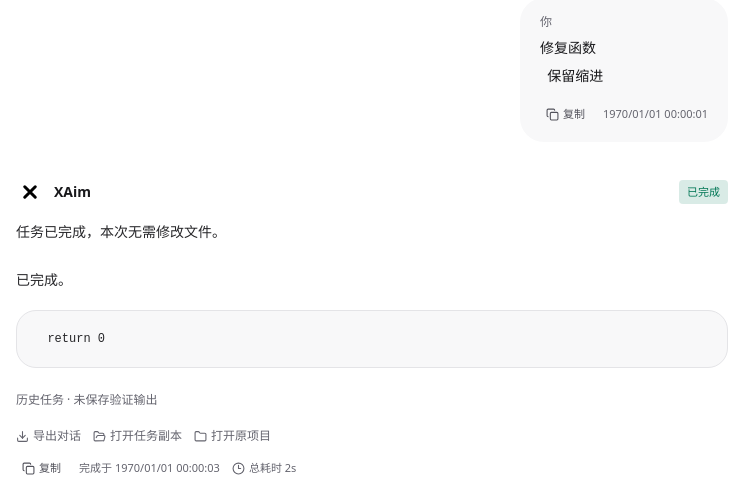
Test: copies the original input and saved output as plain text, preserving whitespace
Click the button with aria-label "复制输入".
click(566, 114)  # box [540,102,591,126]
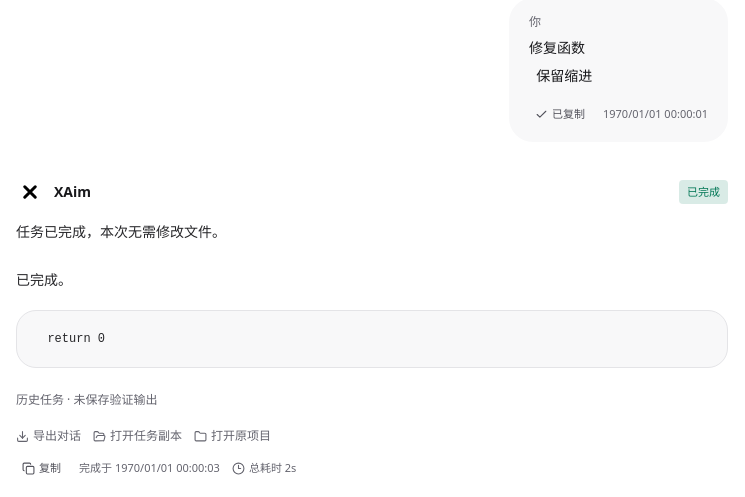
Check: the text "已复制" is shown, box [552,104,585,124]
Click the button with aria-label "复制输出".
click(42, 468)  # box [16,456,67,480]
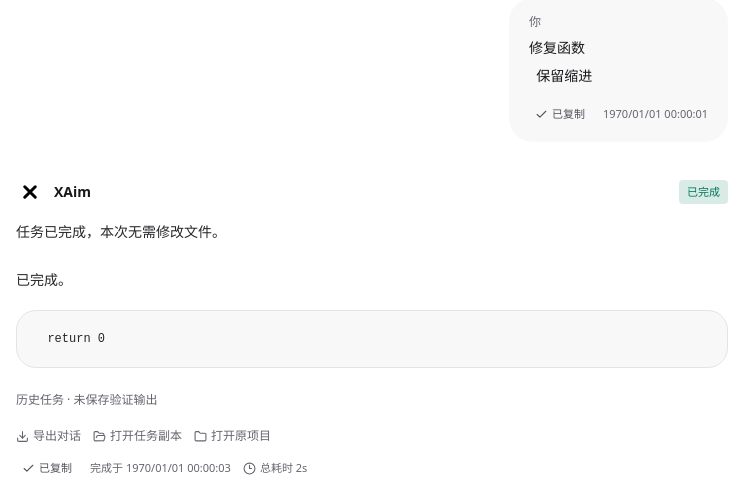
Check: the text "已复制" next to "完成于" is shown, box [39,460,72,475]
